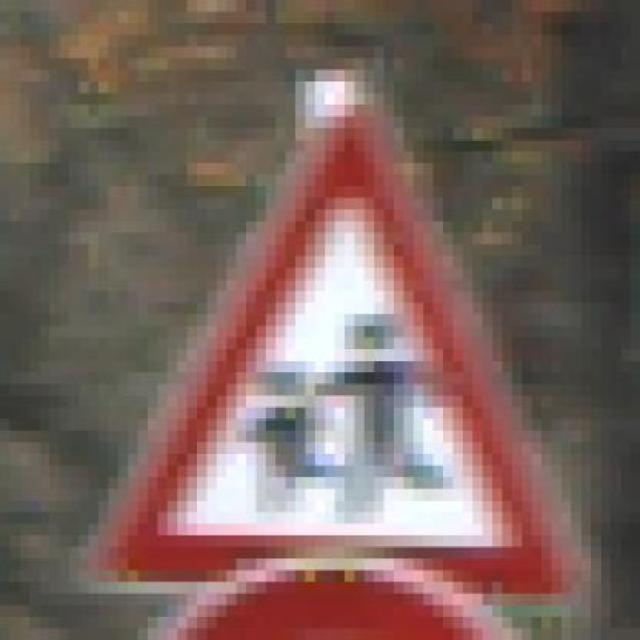Beware of children: (59, 93, 601, 605)
